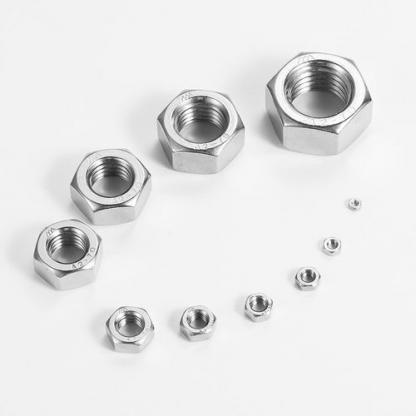FOD: (264, 52, 375, 153), (153, 87, 248, 175), (67, 146, 154, 225), (32, 219, 104, 291), (105, 304, 156, 354), (177, 304, 218, 342), (240, 290, 276, 326), (290, 265, 324, 292), (322, 233, 343, 256), (345, 195, 364, 212)
